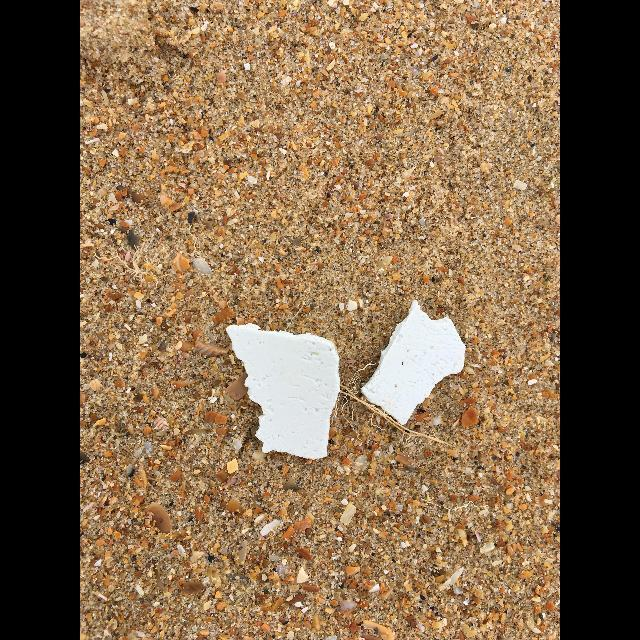Plastic: (226, 322, 340, 460), (361, 300, 465, 424)
